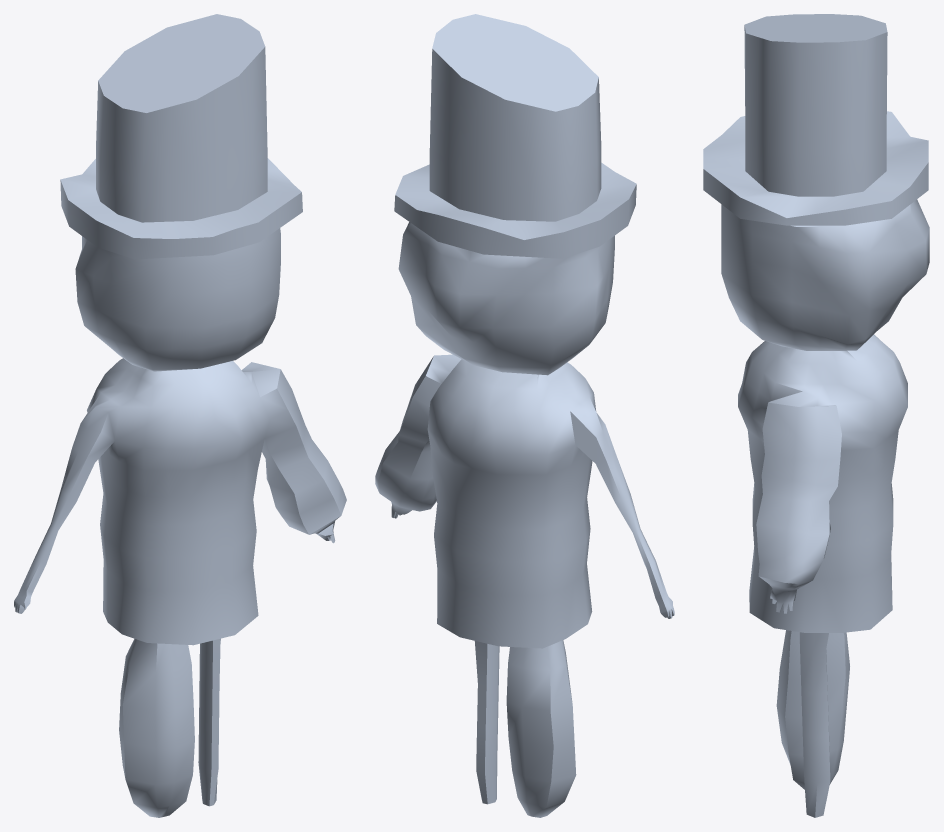
3 views of the same model, side by side, from view 1: azimuth 30°, elevation 25°; view 2: azimuth 150°, elevation 25°; view 3: azimuth 270°, elevation 25° (orthographic). The views are drawn at different scales.
Visible parts, largest first — view 1: Cube_0; view 2: Cube_0; view 3: Cube_0.
Part boxes in pixels (x1,y1,x2,y2): Cube_0: (14,14,346,817); Cube_0: (375,14,674,817); Cube_0: (703,14,929,817).
Bounding box in the file's own units: 0.425 × 1 × 0.2582.
